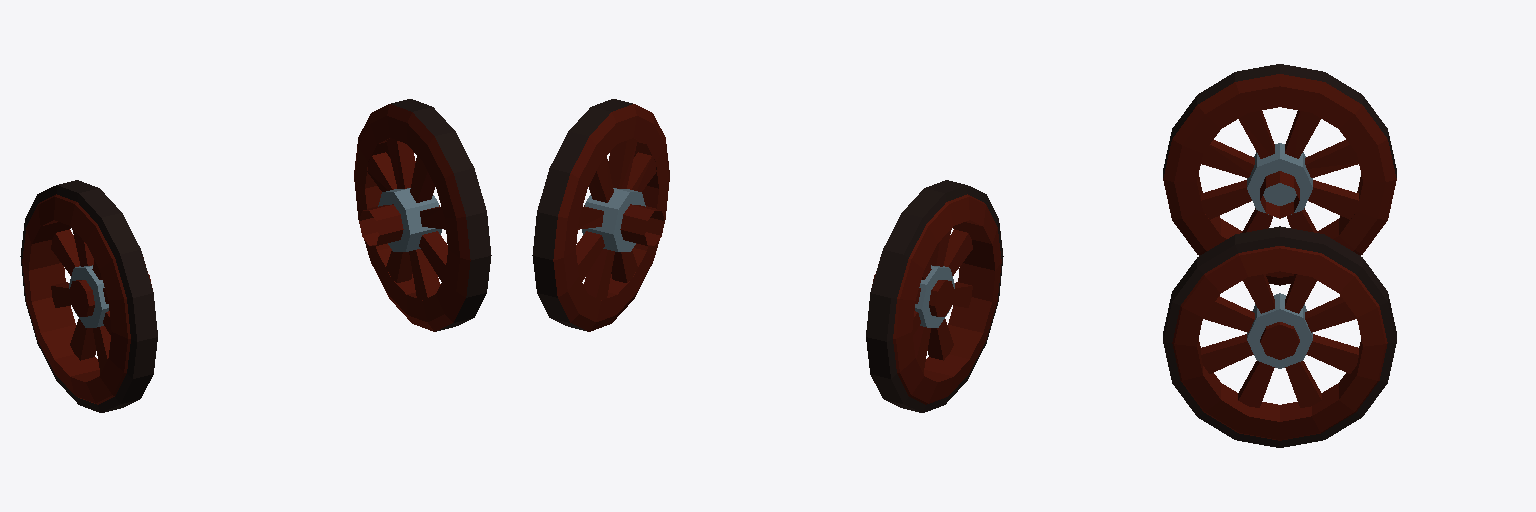
Rendered from wagonWheels.obj.
The picture shows the model from 3 angles: view 1: azimuth 30°, elevation 25°; view 2: azimuth 150°, elevation 25°; view 3: azimuth 270°, elevation 25°; orthographic projection.
Visible parts, largest first — view 1: wagonWheels_Cube.5957; view 2: wagonWheels_Cube.5957; view 3: wagonWheels_Cube.5957.
Boxes of the visible parts, <box> form: wagonWheels_Cube.5957: <box>20,99,491,412</box>; wagonWheels_Cube.5957: <box>532,99,1003,412</box>; wagonWheels_Cube.5957: <box>1163,64,1396,447</box>.
Bounding box in the file's own units: 1.7 × 0.9238 × 0.9238.